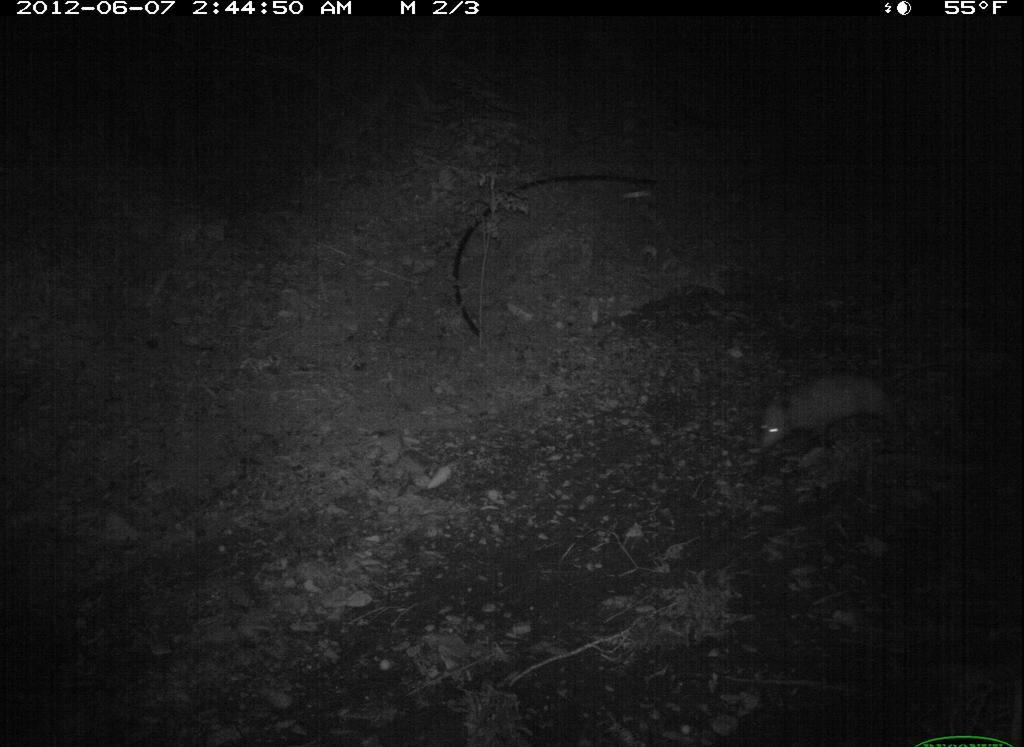opossum: (735, 355, 923, 473)
